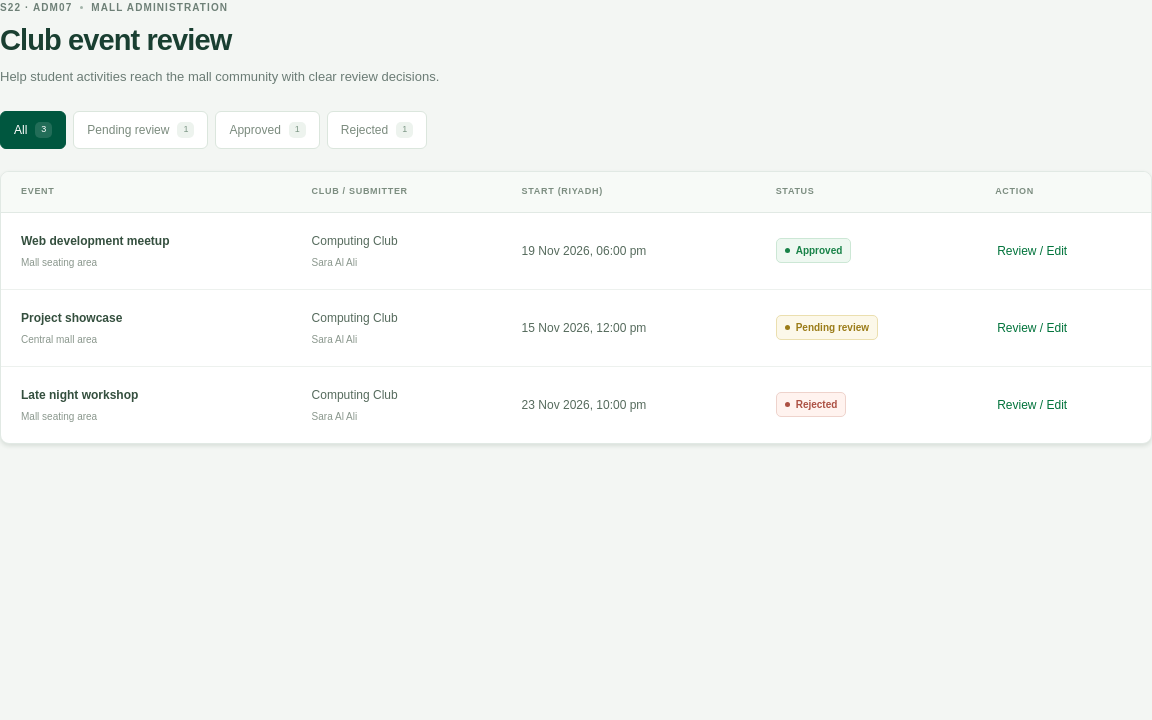
Scenario: Owned admin screens › blocks approval for an already-started event
Click the button "Review / Edit" in the row of "Project showcase": point(1032, 328) x1=995 y1=312 x2=1069 y2=344
(page scrolled)
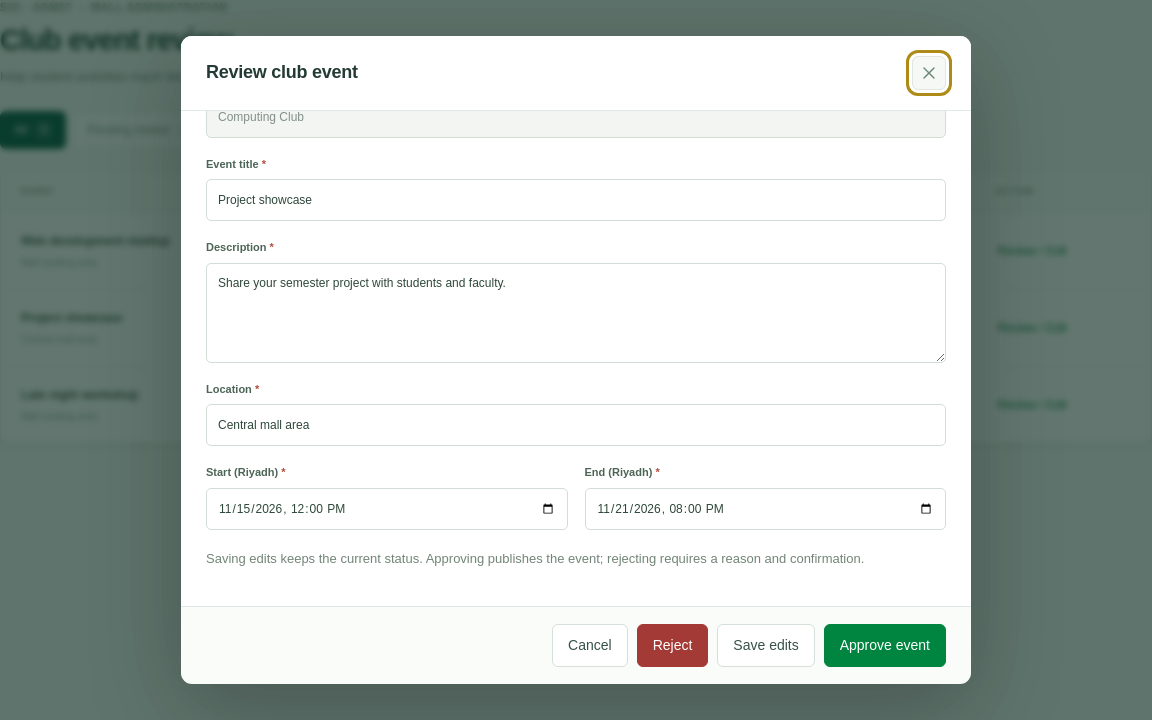
Click the button "Approve event": point(885, 645) x1=824 y1=624 x2=946 y2=667
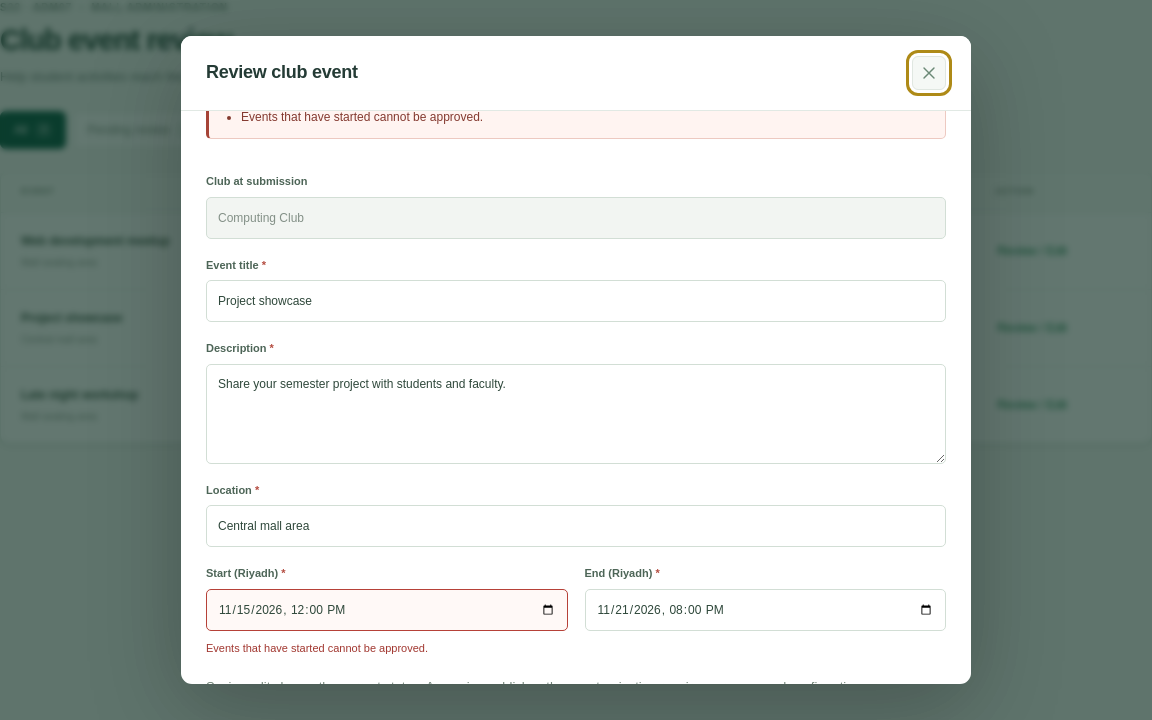
Result: the text "Events that have started cannot be approved." is shown at x1=206 y1=642 x2=428 y2=654
